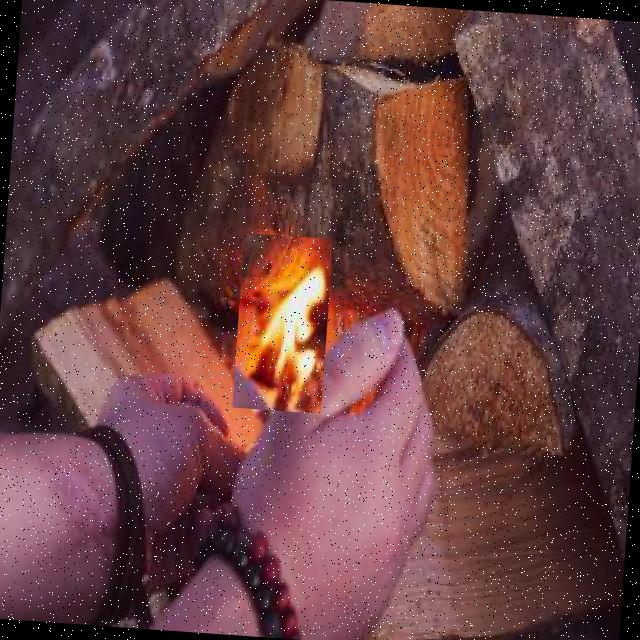fire: (232, 232, 332, 413)
